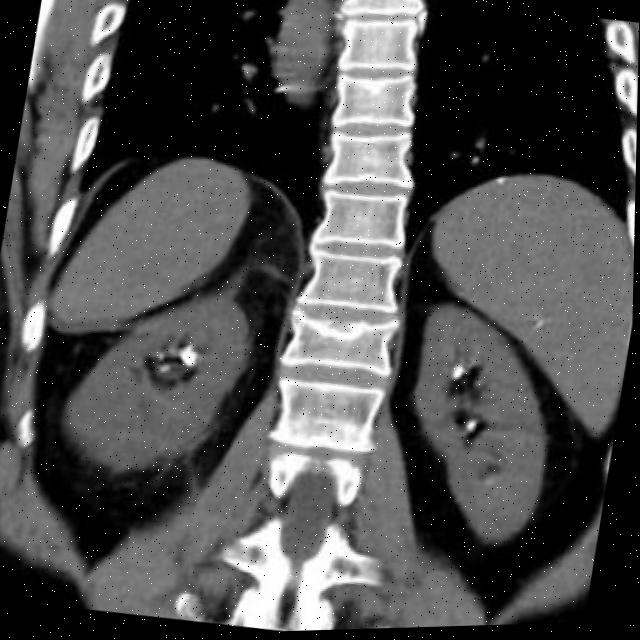Tas_Var: (176, 342, 206, 370), (459, 416, 485, 443), (445, 361, 470, 388), (156, 363, 175, 375), (157, 350, 166, 362)
